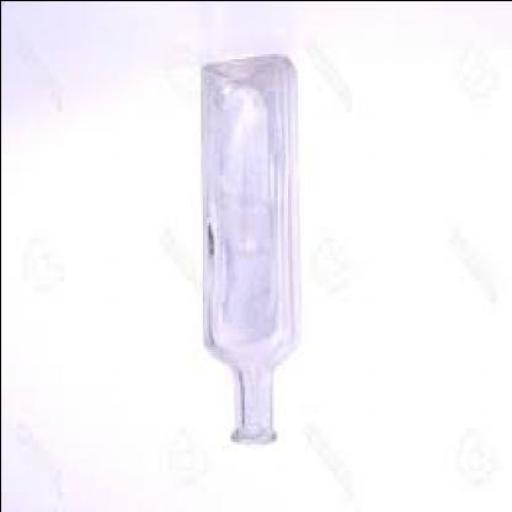glass: (199, 61, 299, 446)
